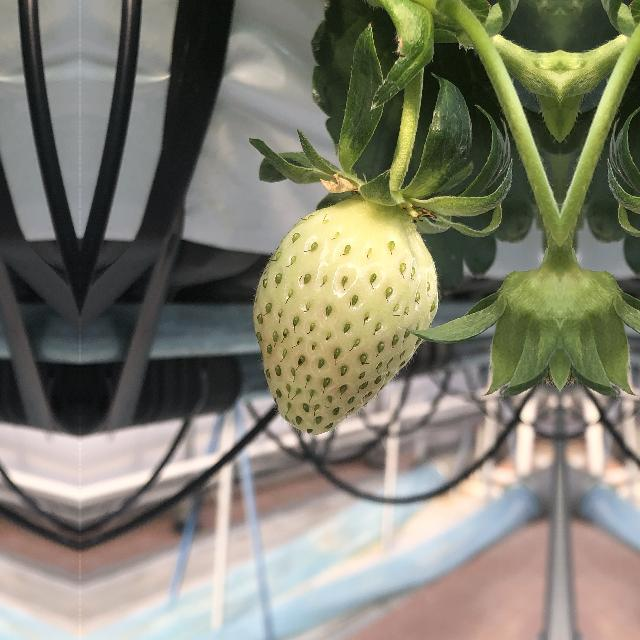Health_25: (240, 175, 450, 442)
